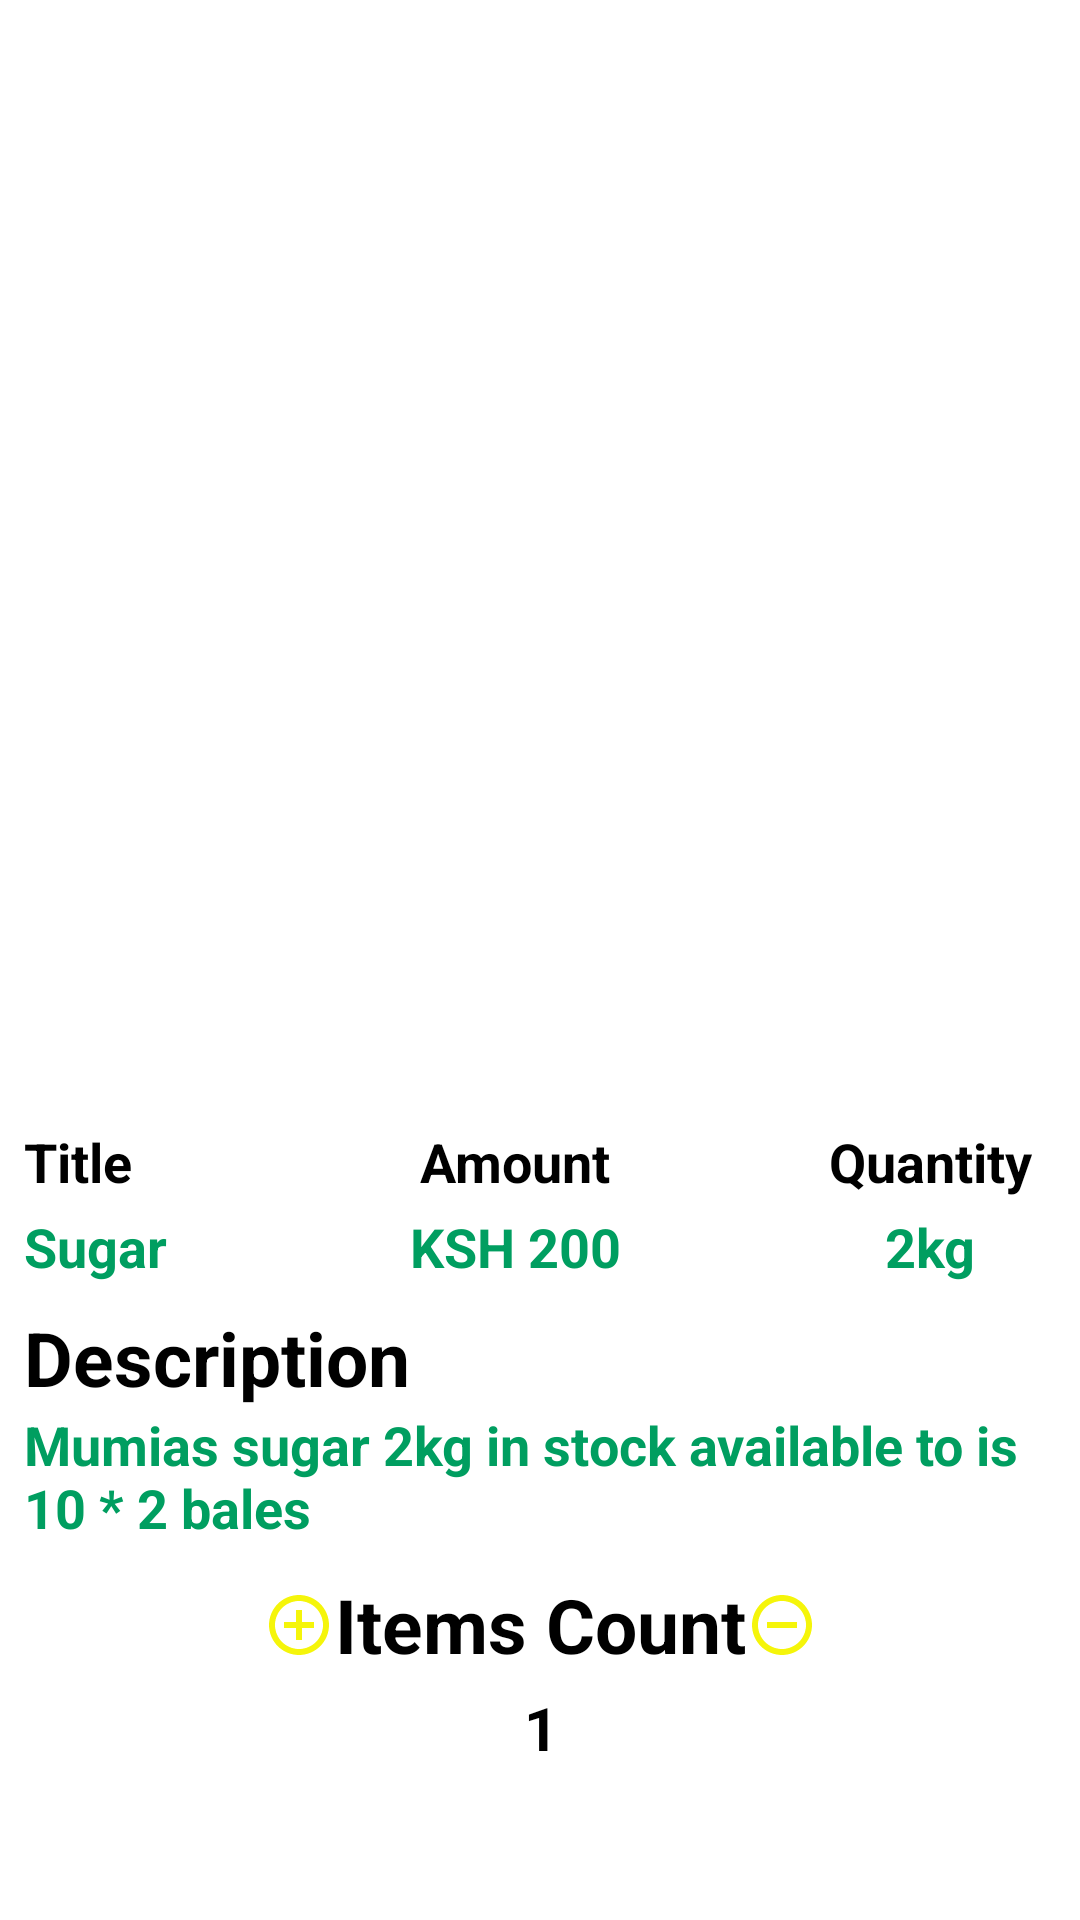

Where icons sit on this 1080 x 1920 app screen, as bbox=[x1, y1, x2, y2]:
add circle: bbox=[269, 1595, 329, 1655]
remove: bbox=[752, 1595, 812, 1655]
